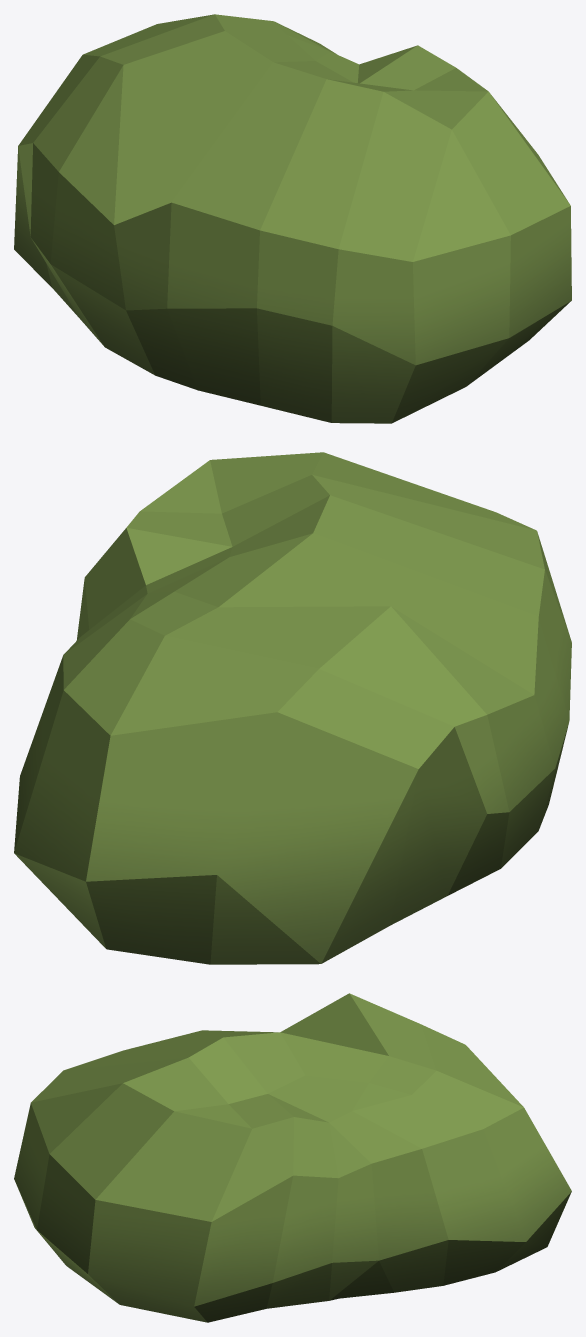
The model's file is Bush-01.FBX.
3 renders of one model, top to bottom at view 1: azimuth 30°, elevation 25°; view 2: azimuth 150°, elevation 25°; view 3: azimuth 270°, elevation 25°, orthographic. The views are drawn at different scales.
Parts seen in each view (by area): view 1: Bush-01; view 2: Bush-01; view 3: Bush-01.
Boxes of the visible parts, x1=… form: Bush-01: x1=14, y1=14, x2=571, y2=423; Bush-01: x1=14, y1=452, x2=571, y2=964; Bush-01: x1=14, y1=993, x2=571, y2=1322.
Bounding box in the file's own units: 229 × 128 × 309.
Materials: 1 (1 with a texture image).
